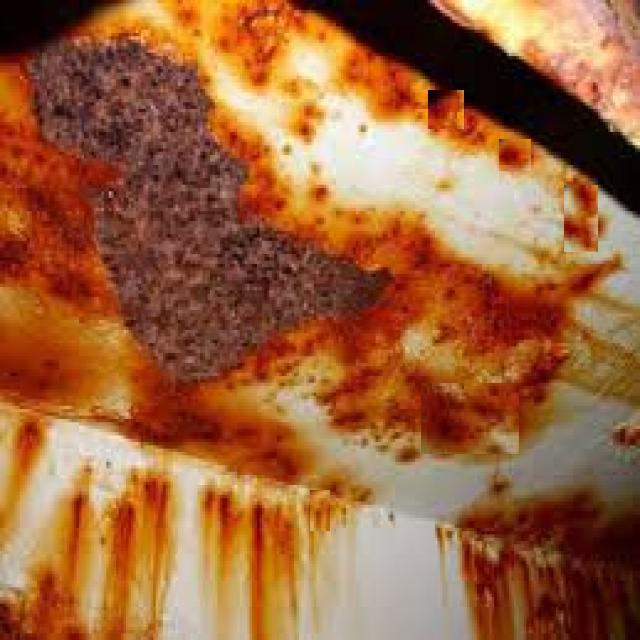Corrosion: (0, 62, 546, 481), (0, 61, 304, 480), (31, 35, 382, 378), (433, 0, 640, 146), (459, 490, 640, 640), (178, 0, 385, 122), (66, 470, 171, 640), (209, 101, 330, 248), (202, 479, 310, 640), (289, 164, 387, 270), (429, 90, 537, 174), (18, 557, 88, 640), (0, 403, 46, 528), (296, 470, 364, 554), (564, 175, 601, 253), (0, 594, 39, 640), (500, 139, 519, 168)
